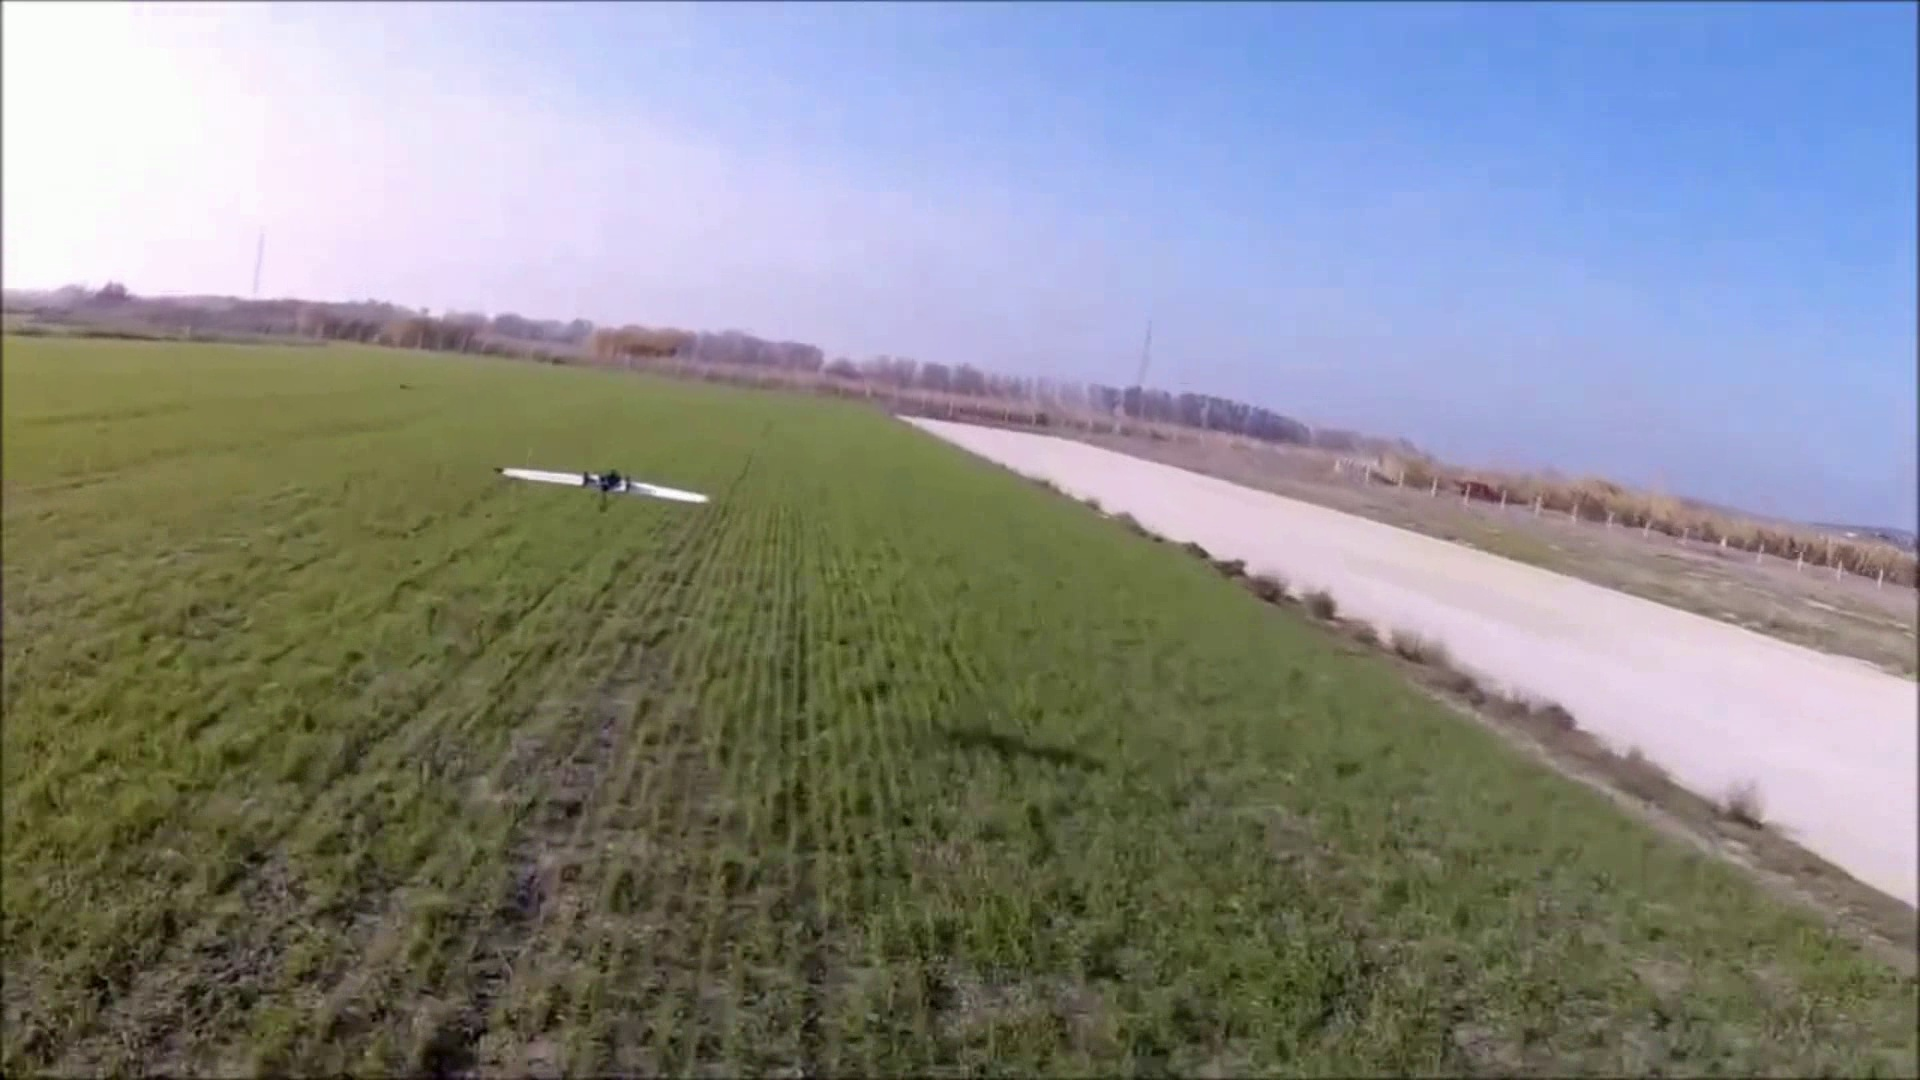airplane: (498, 462, 708, 513)
